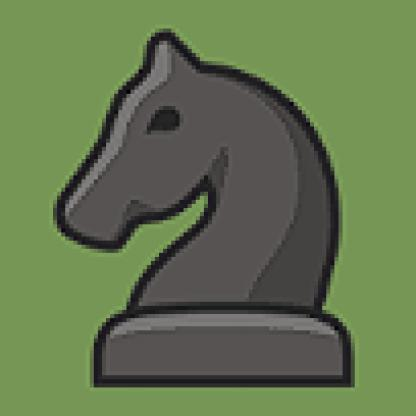Black Knight: (42, 18, 385, 399)
